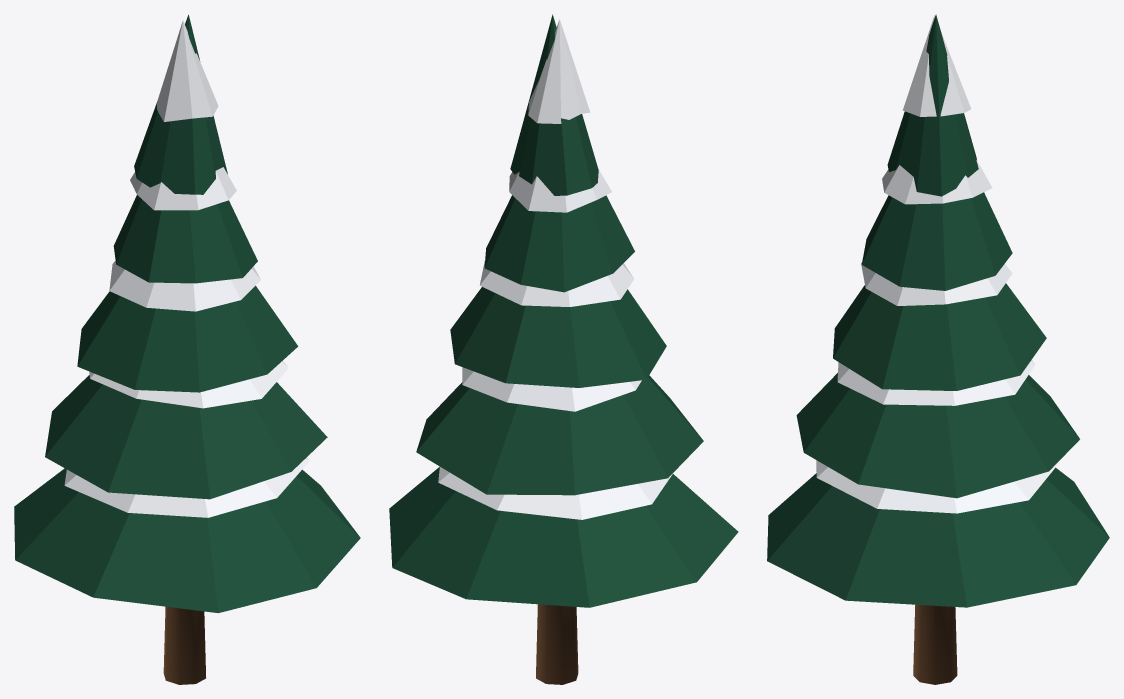
The model's file is tree_pine_snow.glb.
3 renders of one model, left to right at view 1: azimuth 30°, elevation 25°; view 2: azimuth 150°, elevation 25°; view 3: azimuth 270°, elevation 25°, orthographic.
Visible parts, largest first — view 1: TreePineSnow; view 2: TreePineSnow; view 3: TreePineSnow.
Part boxes in pixels (box(x1,y1,x2,y2)): TreePineSnow: box(14, 14, 360, 684); TreePineSnow: box(389, 14, 738, 684); TreePineSnow: box(767, 14, 1109, 684).
Bounding box in the file's own units: 3.22 × 6.62 × 3.1.
